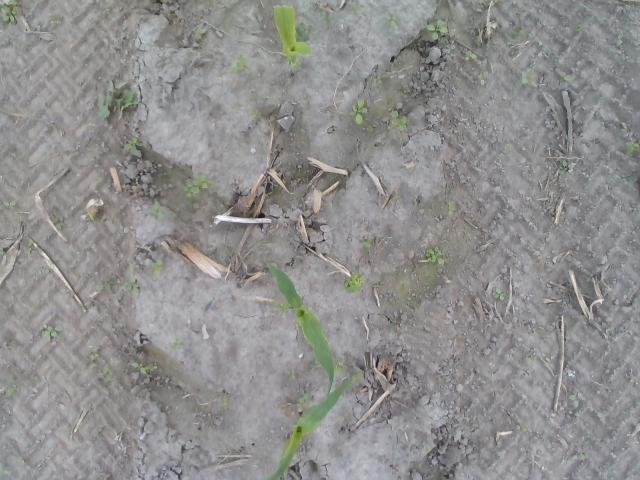Maize: (260, 372, 358, 480), (266, 261, 336, 398), (272, 3, 314, 76)
Weeds: (96, 77, 139, 123), (81, 352, 113, 385), (182, 175, 213, 200), (130, 355, 160, 378), (0, 0, 24, 27), (344, 270, 368, 296), (425, 246, 449, 269), (426, 17, 449, 41), (351, 96, 368, 126), (228, 51, 250, 73), (120, 276, 140, 298), (388, 108, 408, 130), (96, 275, 118, 293), (383, 14, 401, 33), (623, 138, 640, 158), (152, 254, 166, 278), (150, 198, 164, 220), (295, 23, 311, 42), (42, 324, 64, 337), (272, 301, 288, 318), (520, 69, 537, 85), (558, 71, 576, 86), (319, 11, 336, 26), (124, 138, 143, 150), (192, 25, 207, 39), (52, 215, 66, 229), (511, 29, 526, 42), (335, 360, 347, 376), (171, 338, 185, 351), (350, 2, 364, 15), (494, 288, 509, 300), (297, 391, 312, 403), (559, 159, 569, 176), (516, 418, 528, 432), (463, 50, 477, 62), (448, 200, 458, 216), (614, 32, 624, 48), (372, 75, 384, 88), (249, 108, 263, 118), (308, 360, 322, 370), (287, 368, 297, 381), (6, 384, 16, 397), (216, 398, 229, 408), (2, 199, 16, 208), (362, 239, 374, 249), (26, 240, 33, 256), (479, 0, 489, 9), (503, 142, 512, 152), (575, 452, 586, 460), (392, 191, 401, 200), (568, 392, 576, 401), (575, 24, 584, 32), (0, 248, 6, 256), (0, 464, 5, 472)
